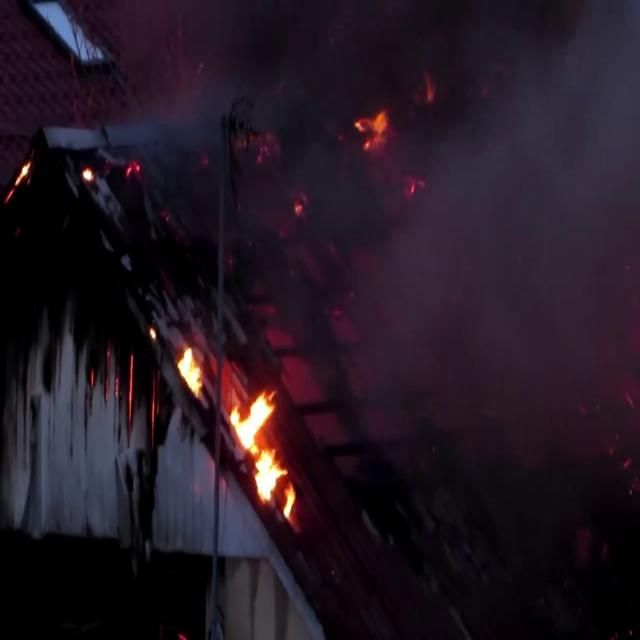Fire: (230, 384, 298, 509), (174, 338, 203, 402)
Smoke: (306, 0, 640, 501)
